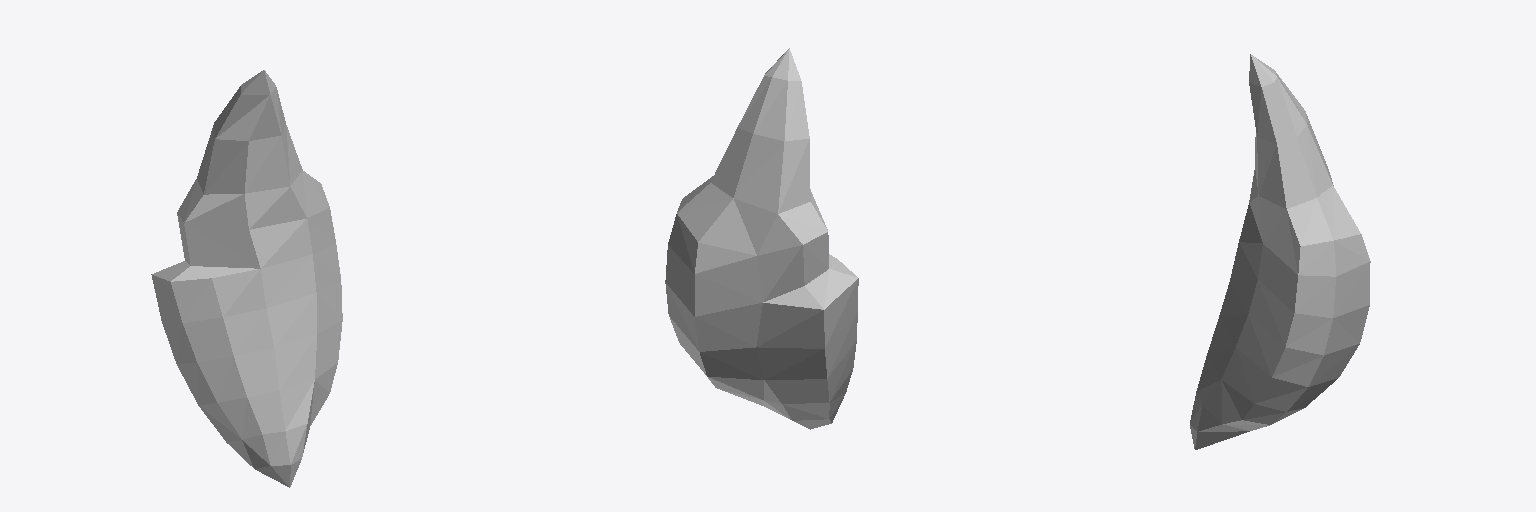
The model's file is stone_03_spikes.obj.
The picture shows the model from 3 angles: view 1: azimuth 30°, elevation 25°; view 2: azimuth 150°, elevation 25°; view 3: azimuth 270°, elevation 25°; orthographic projection.
Visible parts, largest first — view 1: stone_03_spikes; view 2: stone_03_spikes; view 3: stone_03_spikes.
Part boxes in pixels (left/top/right/bottom): stone_03_spikes: left=151, top=70, right=342, bottom=487; stone_03_spikes: left=665, top=48, right=858, bottom=429; stone_03_spikes: left=1190, top=54, right=1370, bottom=449.
Size of the model in its own units: 134 by 288 by 119.